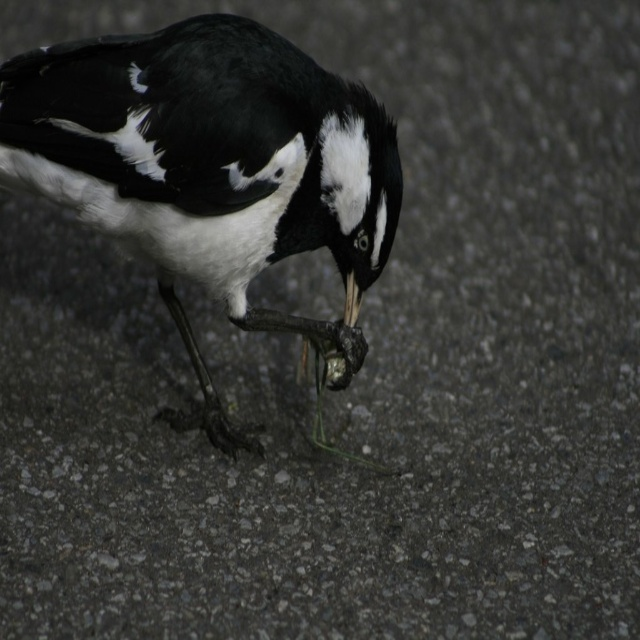Magpie: (0, 14, 403, 454)
